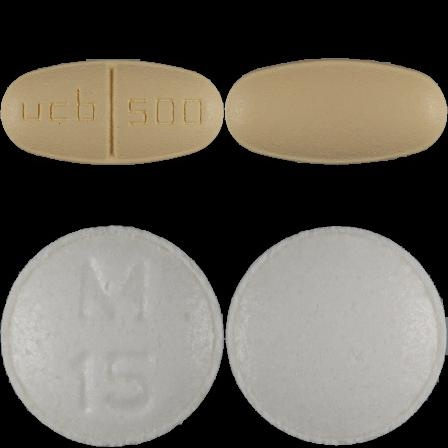55289-097: (0, 0, 224, 224)
